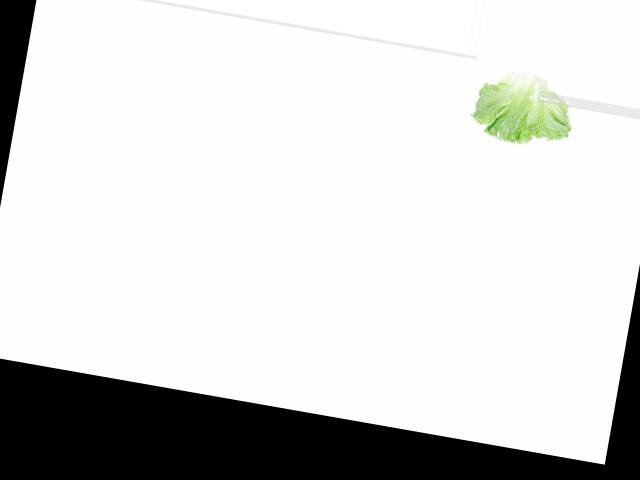lettuce: (468, 63, 575, 150)
